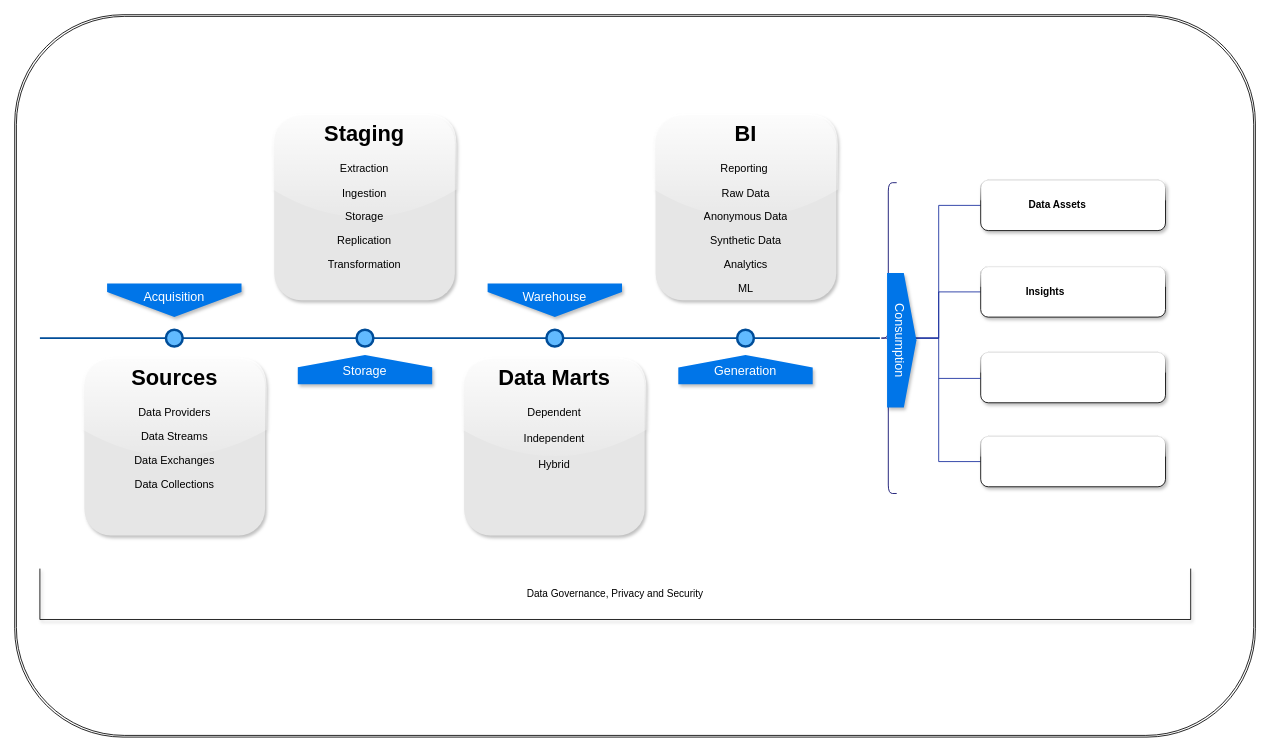
Image size: 1270x752. Some labels were removed from this diagram. Here are the shapes that lost their labels. From the top down, the centre of each, then its label:
At point (1073, 378): "Embedded Data".
At point (1073, 462): "Sell to/through Partners".
